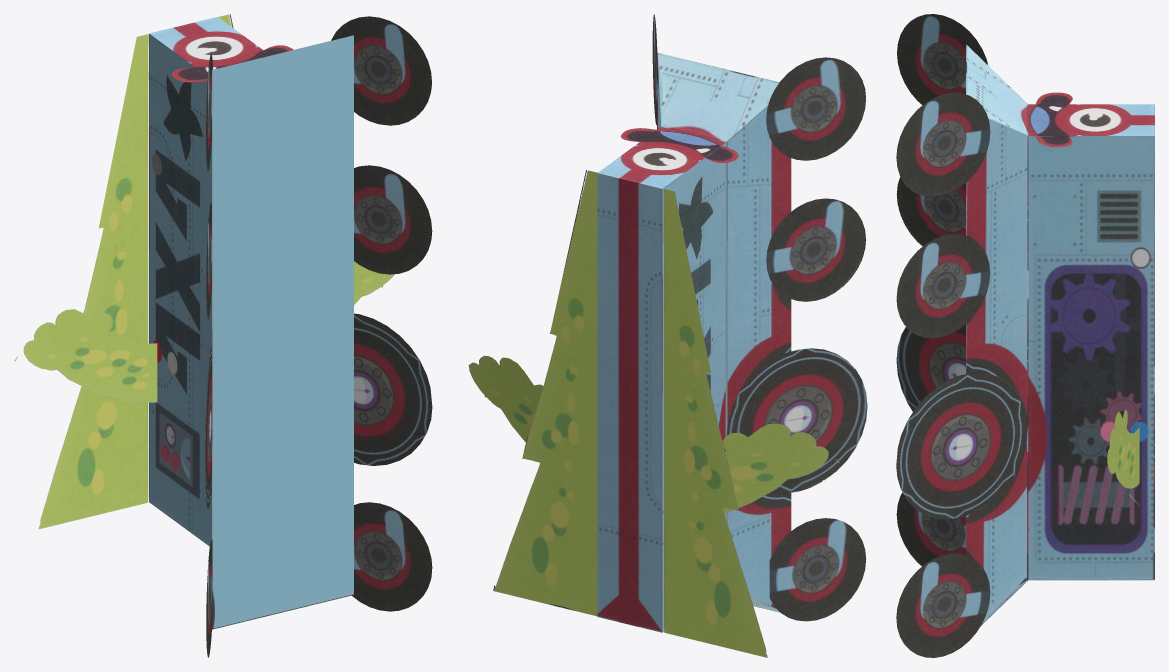
Rendered from robot6.fbx.
3 renders of one model, left to right at view 1: azimuth 30°, elevation 25°; view 2: azimuth 150°, elevation 25°; view 3: azimuth 270°, elevation 25°, orthographic. The views are drawn at different scales.
Visible parts, largest first — view 1: robot6; view 2: robot6; view 3: robot6.
Boxes of the visible parts, left/top/right/bottom form: robot6: left=14, top=14, right=432, bottom=657; robot6: left=468, top=14, right=867, bottom=657; robot6: left=896, top=14, right=1154, bottom=657.
Size of the model in its own units: 7.26 by 10.32 by 4.3.
1 material, 1 textured.
